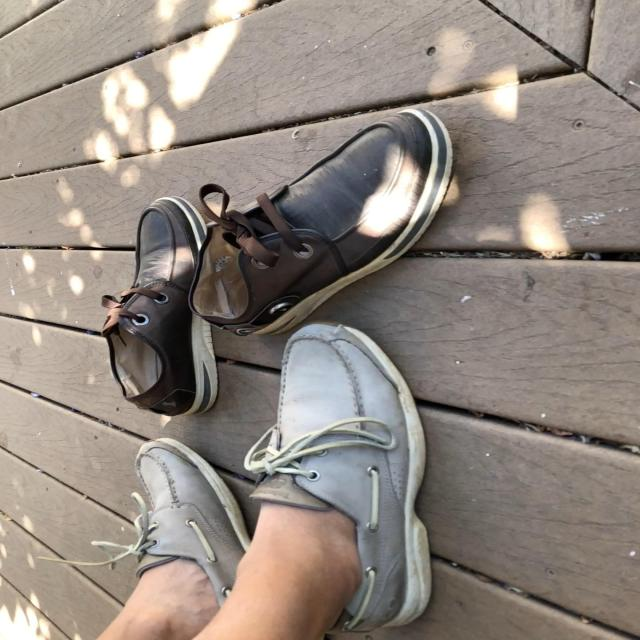shoe: (247, 324, 433, 634), (133, 440, 244, 605)
